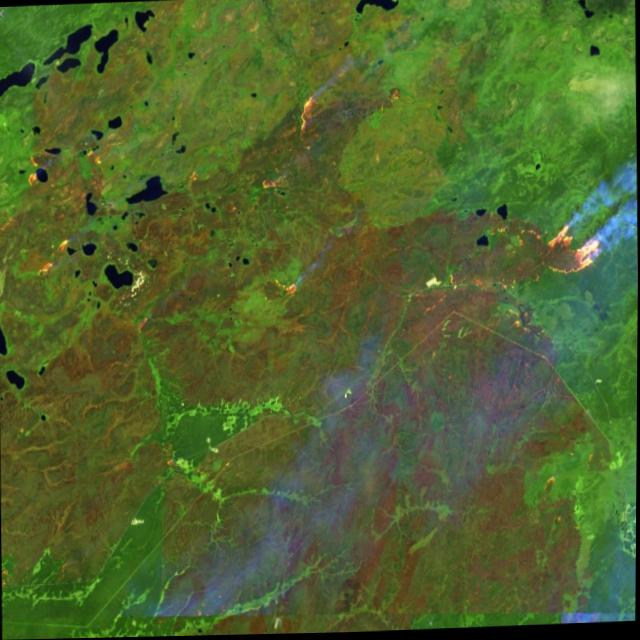fire: (540, 218, 606, 282), (26, 227, 76, 283), (285, 87, 320, 149), (263, 261, 302, 306), (20, 140, 44, 203), (74, 136, 106, 177)
